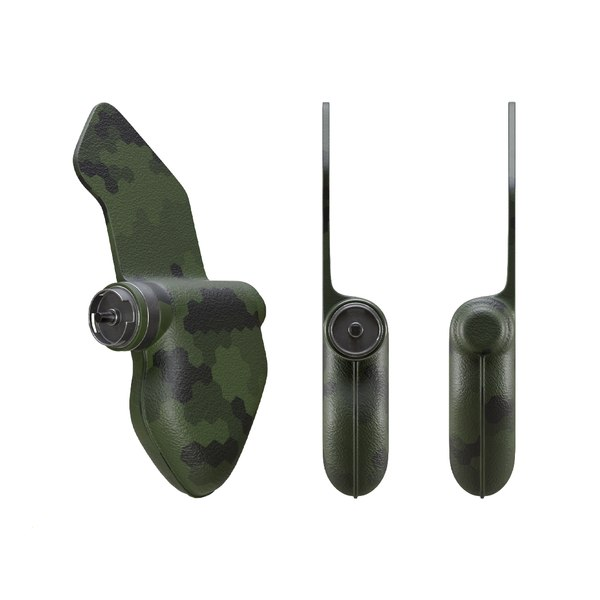butterfly: (63, 68, 262, 503)
